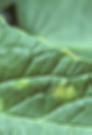Tomato mold leaf: (0, 6, 92, 135)
